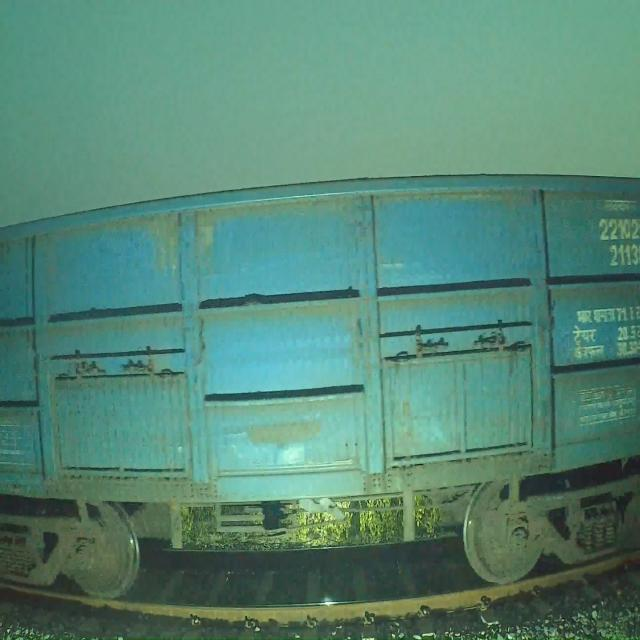WAgon-uic: (0, 171, 640, 599)
uic: (594, 215, 640, 271)
